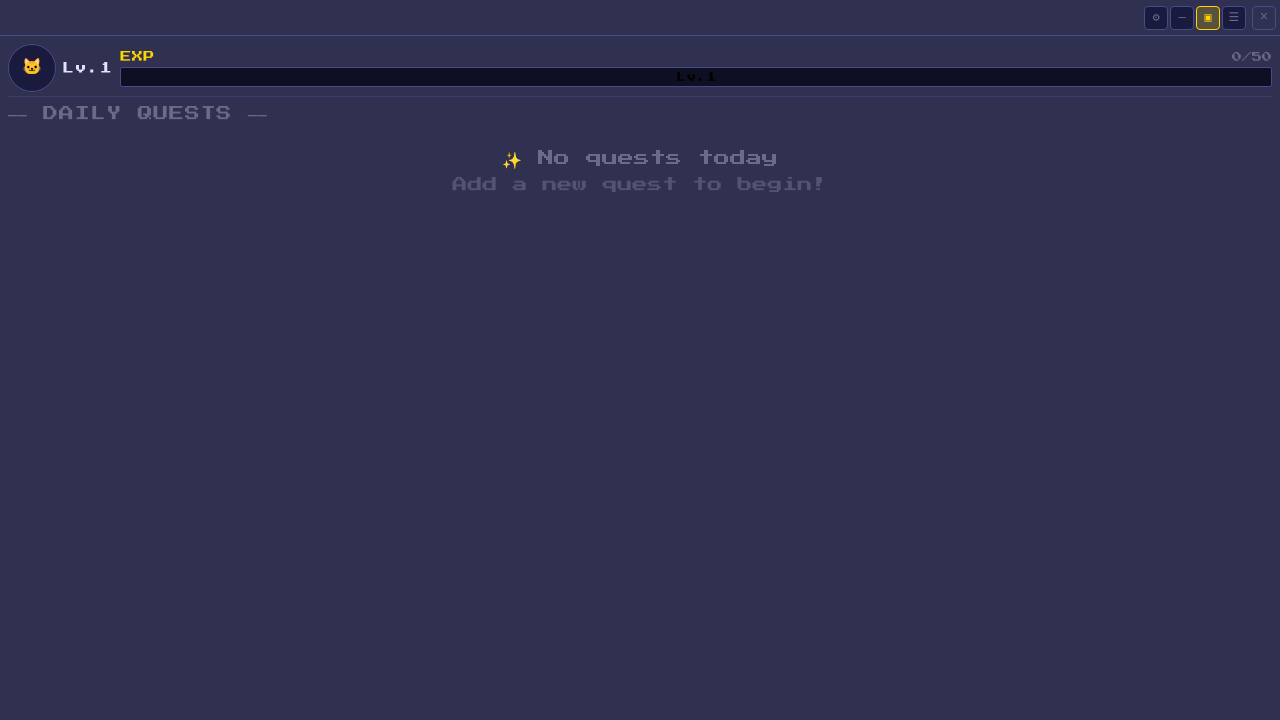
App › toggles sound in settings panel
Note: Open settings
Click the button titled "Settings" at (1156, 18), box x1=1144 y1=6 x2=1168 y2=30
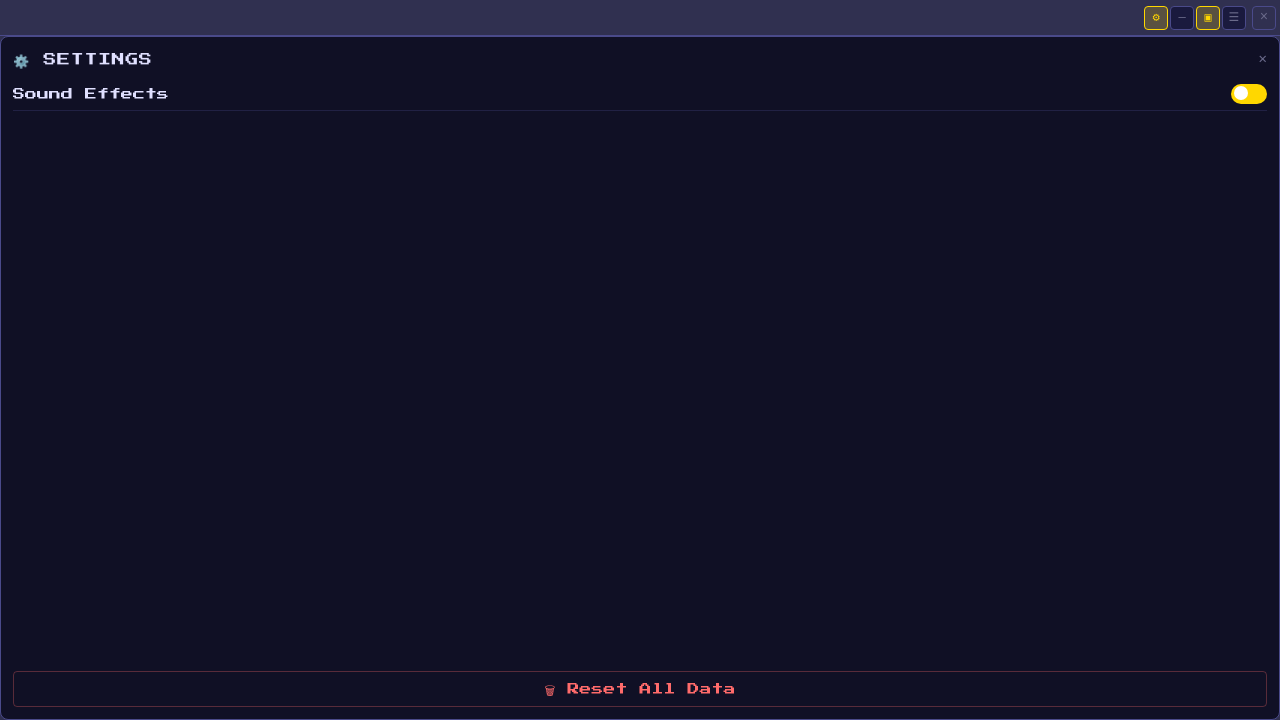
Result: the text "Sound Effects" is shown at x1=13 y1=85 x2=169 y2=103
Result: the button "🗑 Reset All Data" is shown at x1=13 y1=671 x2=1267 y2=707
Note: Close settings by clicking gear again
Click the button titled "Settings" at (1156, 18), box x1=1144 y1=6 x2=1168 y2=30
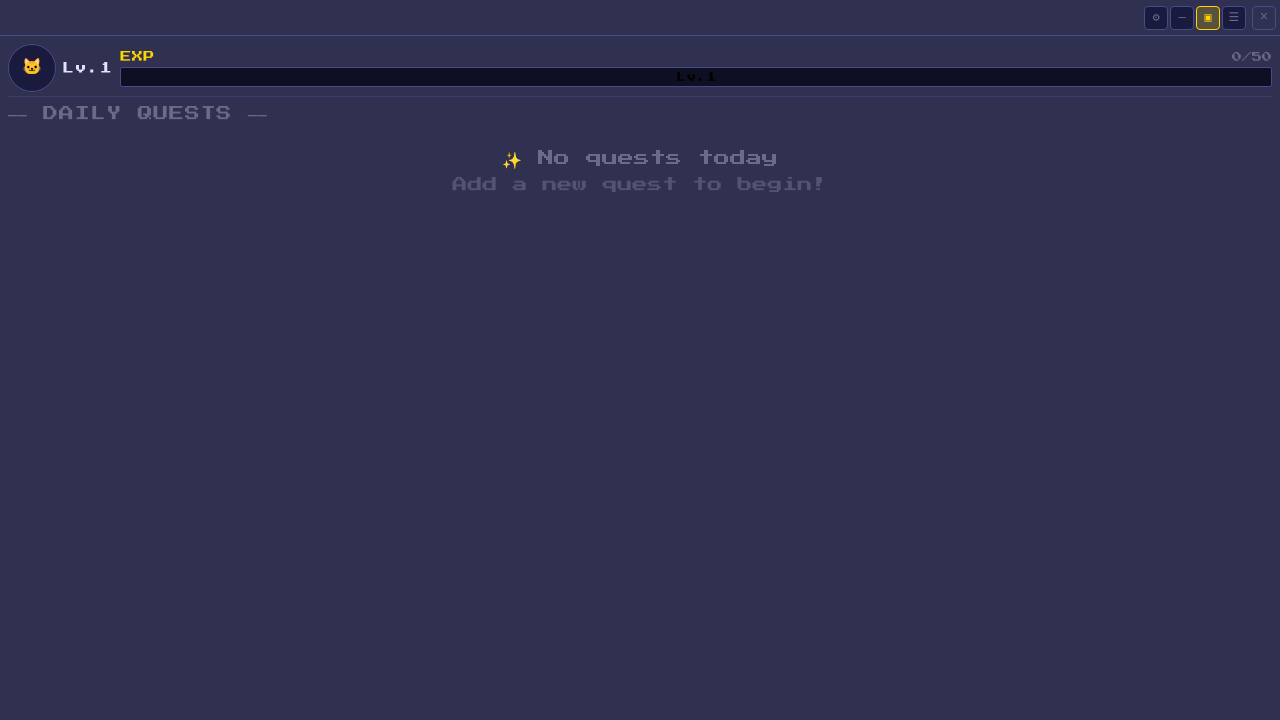
Result: the text "SETTINGS" is gone
